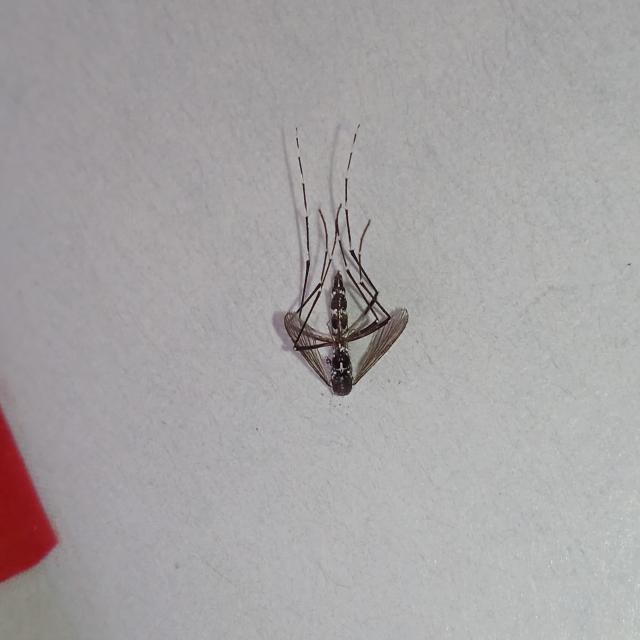albopictus: (271, 122, 409, 400)
